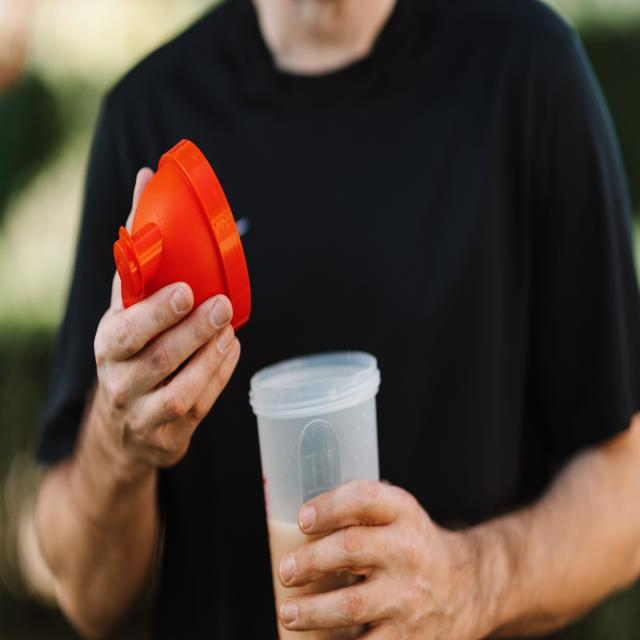cup: (247, 349, 384, 640)
